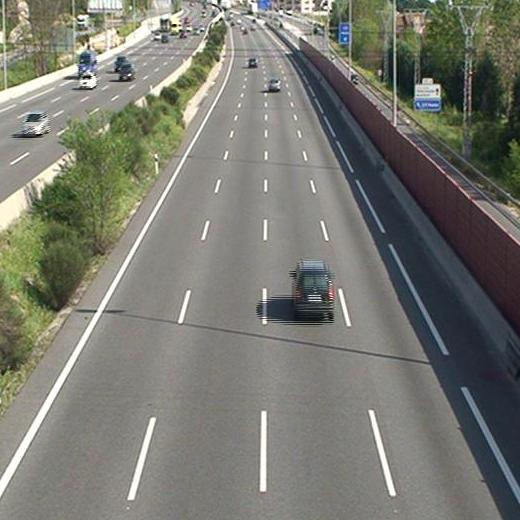car: (292, 261, 334, 314), (269, 79, 282, 92), (247, 58, 257, 67)
